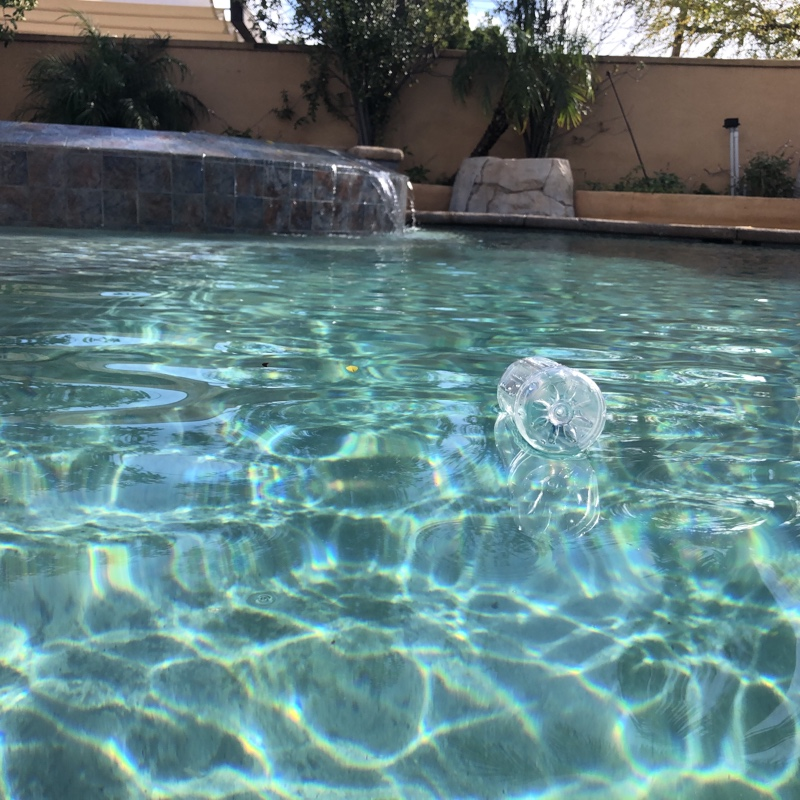Plastic Bottle: (493, 351, 607, 468)
